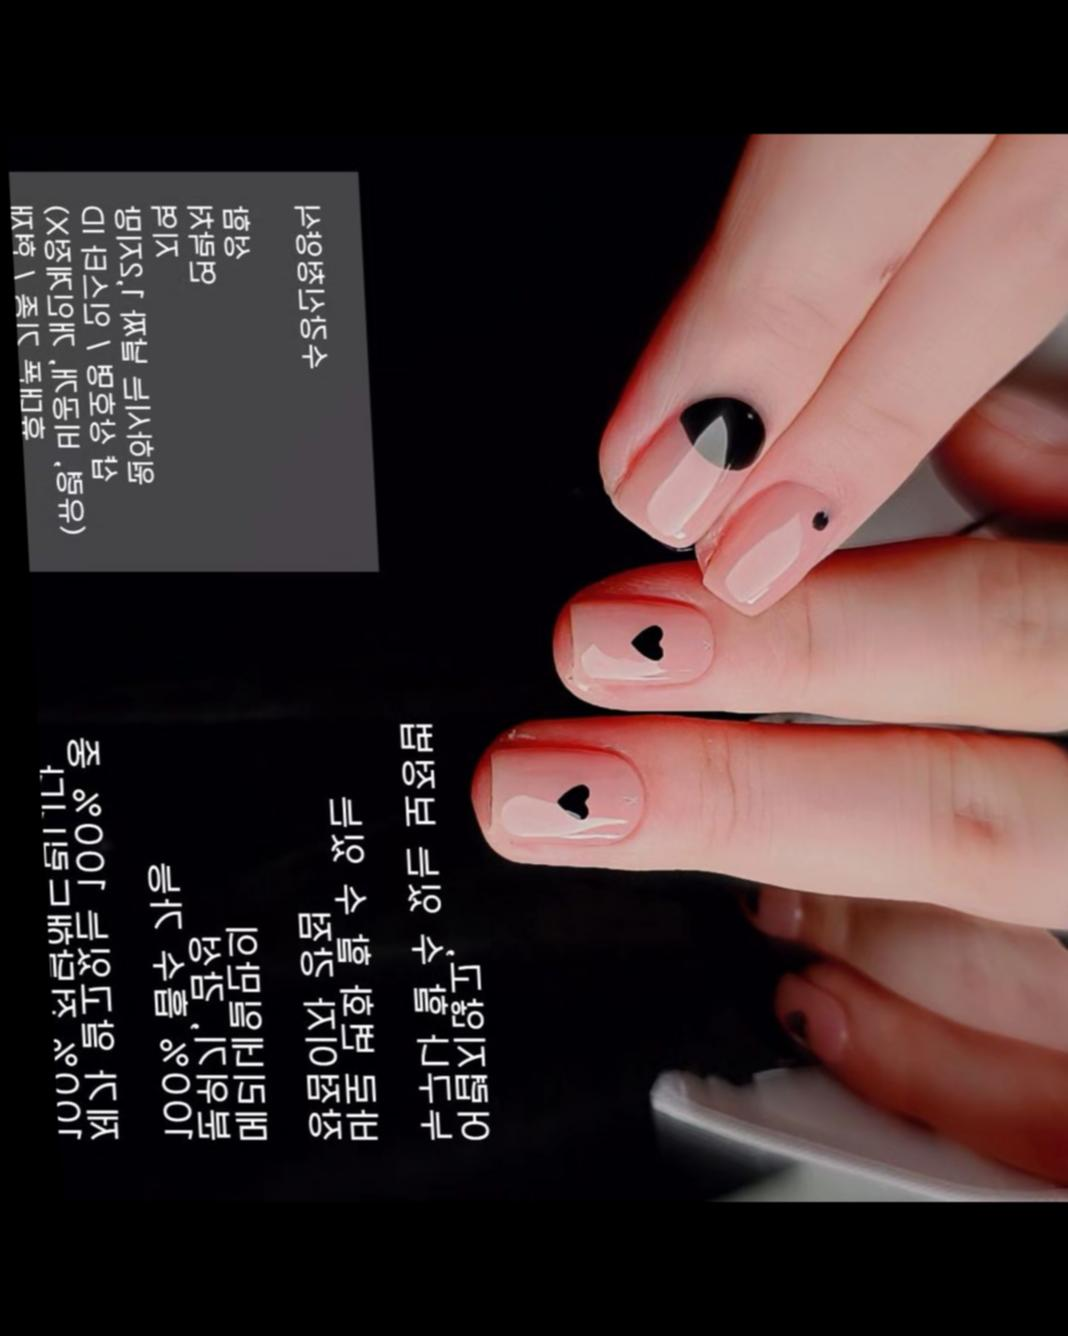nail: (608, 396, 775, 551), (691, 482, 846, 618), (472, 741, 653, 855), (549, 593, 720, 695), (772, 974, 853, 1065), (963, 387, 1068, 454)
